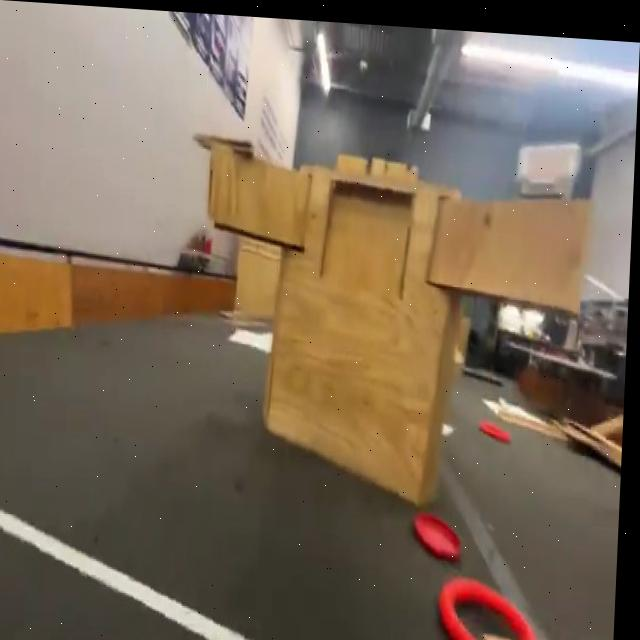note: (440, 568, 555, 640), (479, 410, 520, 438)
